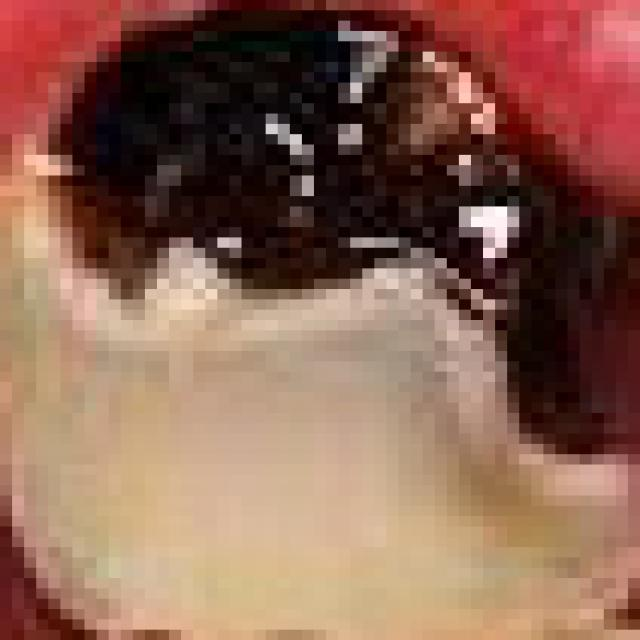Carrier: (36, 0, 556, 319)
